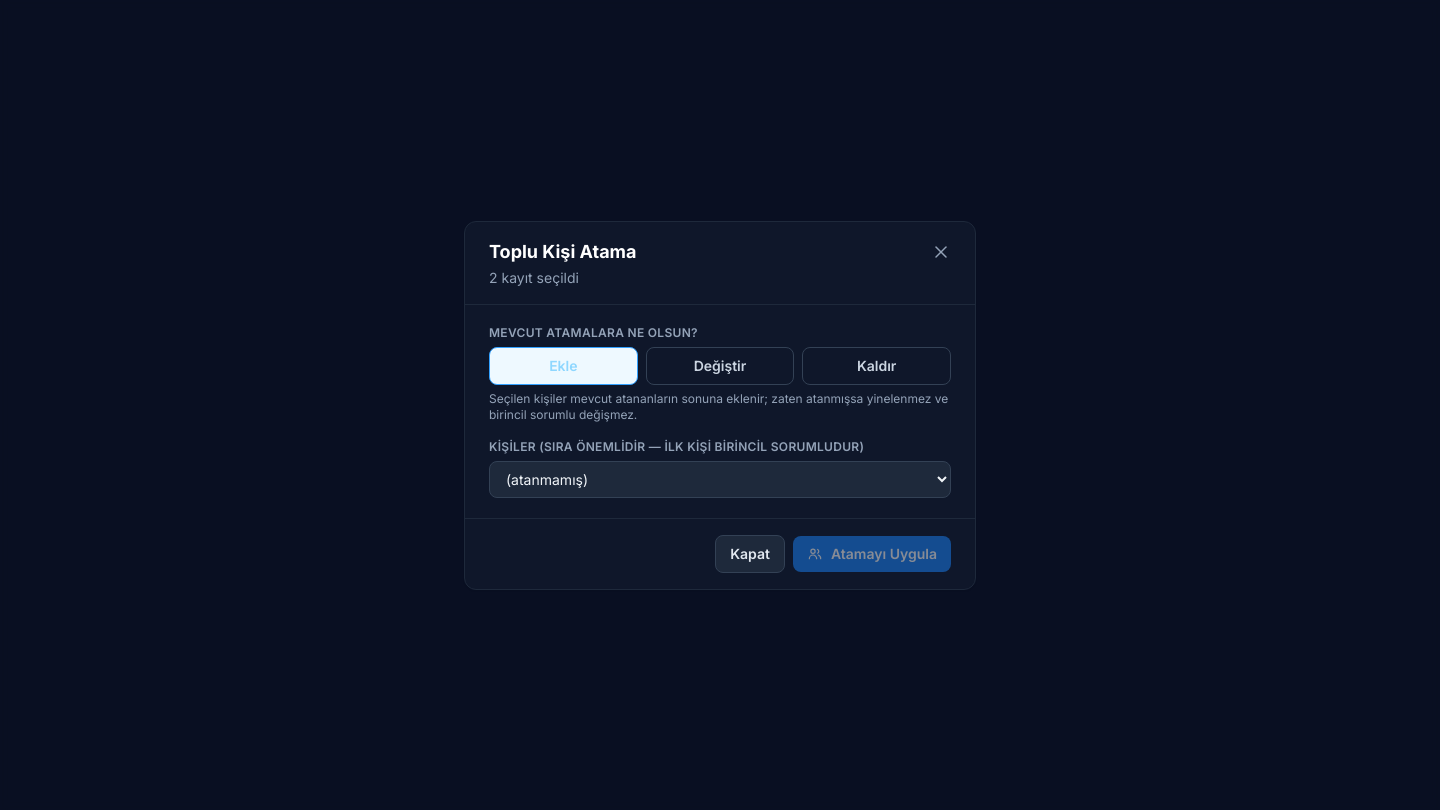
Test: BulkAssignModal — Issue #120 › "Degistir" modunda BOS secim gecerlidir ve anlami yazili olarak soylenir
Click the button with test id "bulk-assign-mode-replace". click: (720, 366)
box: [646,346,794,384]
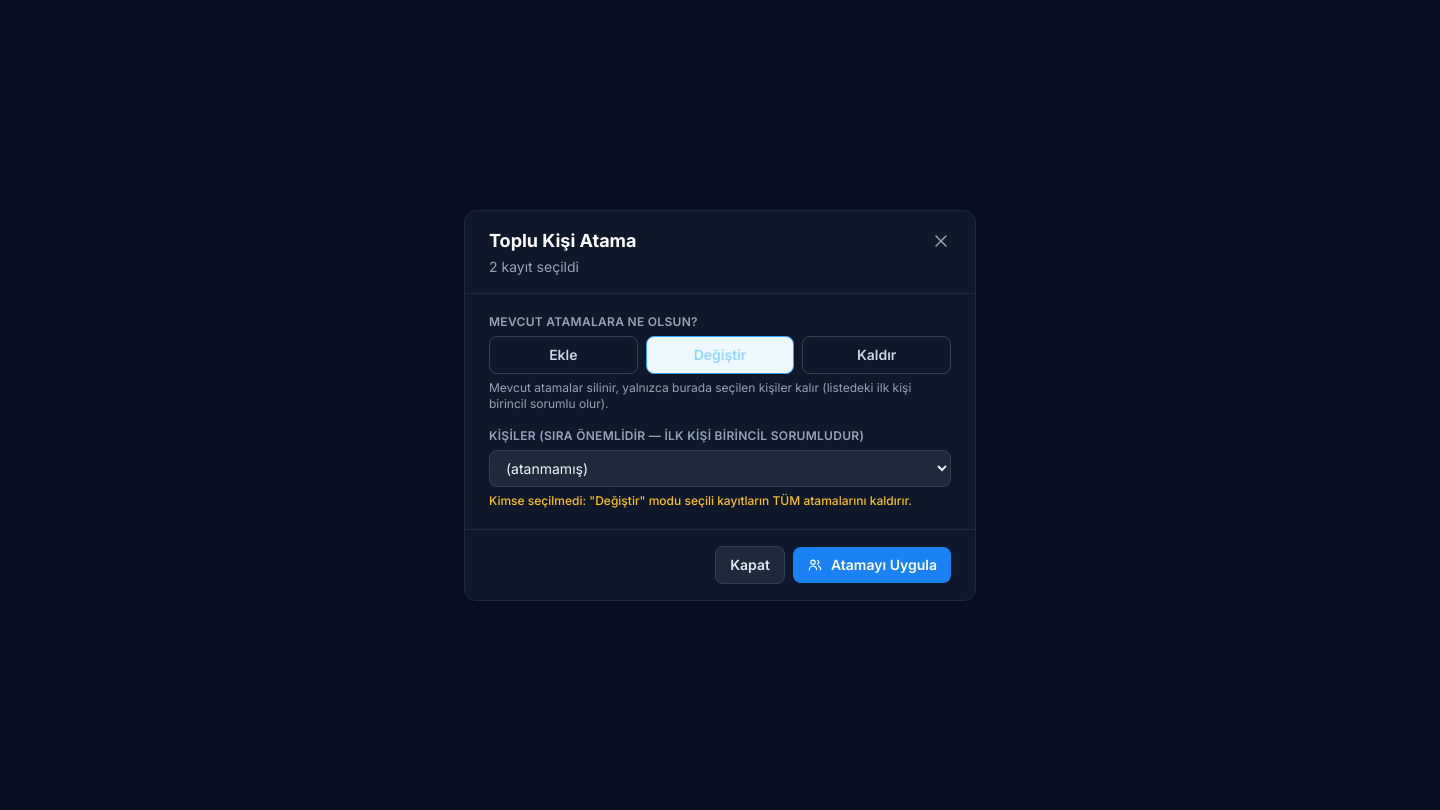
Result: the button with test id "bulk-assign-submit" is enabled at [793,546,951,582]
Result: the text "TÜM atamalarını kaldırır" is shown at [489,492,912,508]
